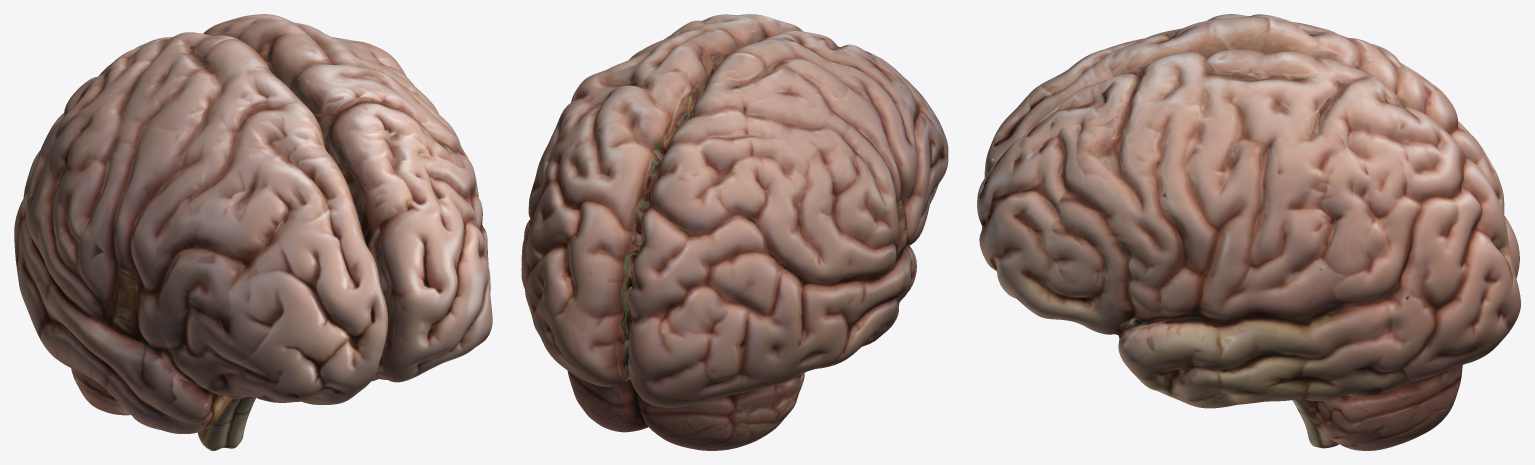
Rendered from brain.glb.
The picture shows the model from 3 angles, left to right: view 1: azimuth 30°, elevation 25°; view 2: azimuth 150°, elevation 25°; view 3: azimuth 270°, elevation 25°; orthographic projection. The views are drawn at different scales.
Visible parts, largest first — view 1: Mesh_0_Material_0.001_0; view 2: Mesh_0_Material_0.001_0; view 3: Mesh_0_Material_0.001_0.
Boxes of the visible parts, x1,y1,x2,y2 form: Mesh_0_Material_0.001_0: (14,14,492,450); Mesh_0_Material_0.001_0: (521,14,948,450); Mesh_0_Material_0.001_0: (977,14,1520,450).
Bounding box in the file's own units: 1.51 × 1.67 × 2.
Materials: 1 (1 with a texture image).
